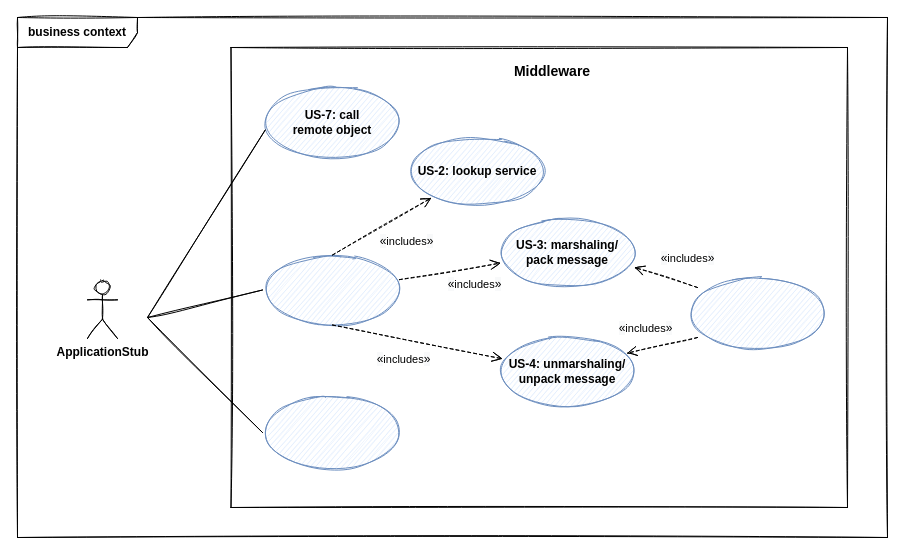
Image size: 905x555. Some labels were removed from this diagram. Here are the shapes that lost their labels. From the top down, the centre of each, then its label:
At point (332, 289): "US-1: invoke method".
At point (757, 313): "US-5: communicate over network".
At point (332, 432): "US-6: register as service".
